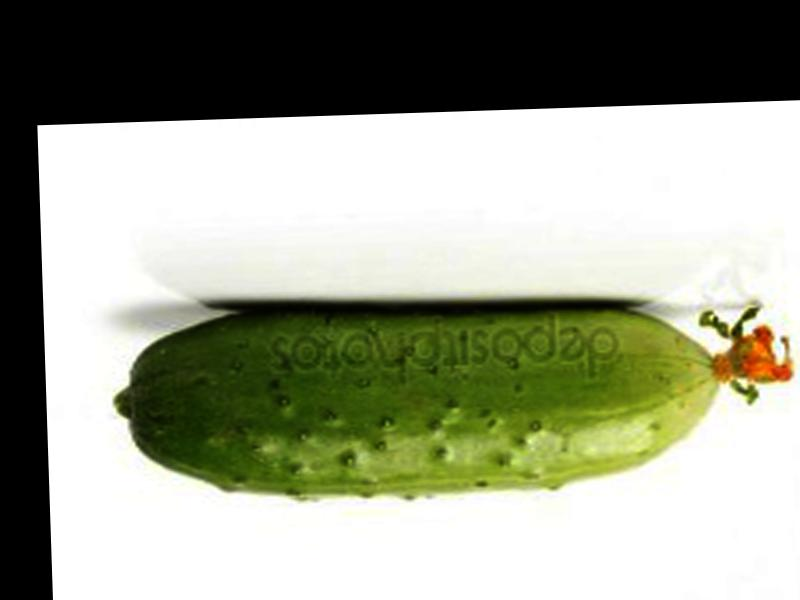Cucumber: (109, 287, 792, 505)
